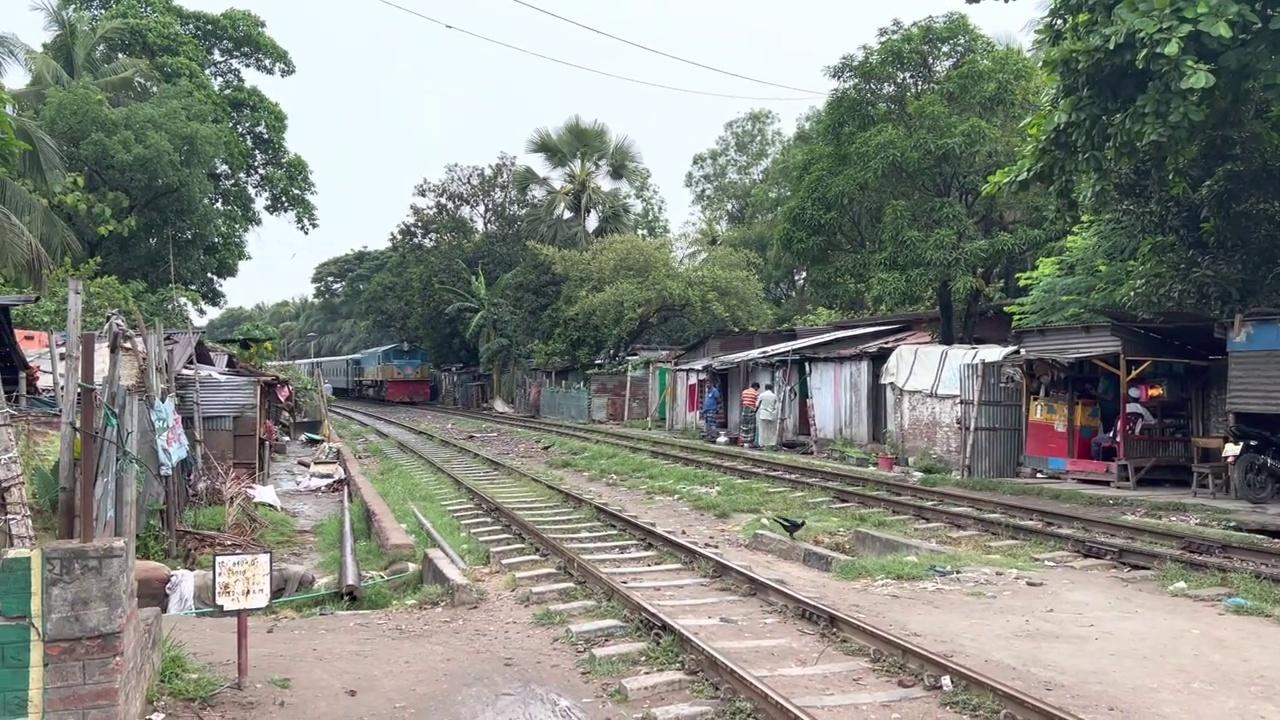Curb: (1220, 422, 1279, 504)
Fence: (752, 381, 778, 449), (740, 381, 760, 447), (700, 379, 721, 440)
Motorcycle: (372, 396, 946, 720)
Pothole: (212, 550, 271, 611)
Potted-plant: (274, 324, 464, 410)
Railroad-crossing: (0, 0, 318, 334), (757, 9, 1070, 344)
